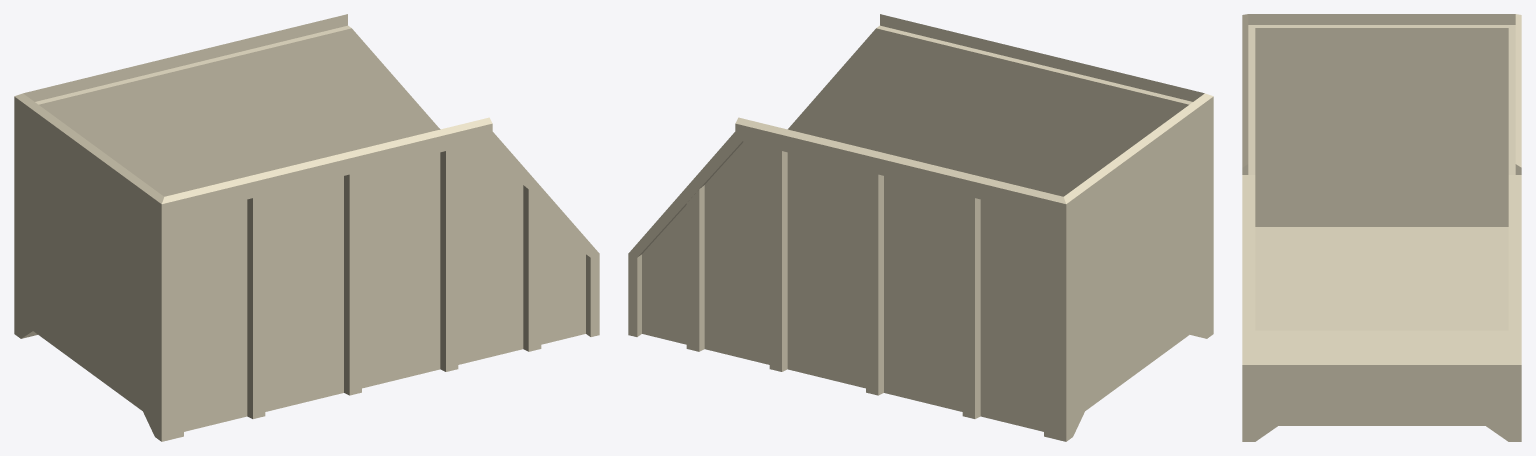
File: ContainerSmall.fbx
3 views of the same model, side by side, from view 1: azimuth 30°, elevation 25°; view 2: azimuth 150°, elevation 25°; view 3: azimuth 270°, elevation 25° (orthographic). The views are drawn at different scales.
Visible parts, largest first — view 1: ContainerSmall; view 2: ContainerSmall; view 3: ContainerSmall.
Boxes of the visible parts, <box> form: ContainerSmall: <box>14,14,599,441</box>; ContainerSmall: <box>628,14,1213,441</box>; ContainerSmall: <box>1242,14,1521,441</box>.
Size of the model in its own units: 31.59 by 16.64 by 18.43.
